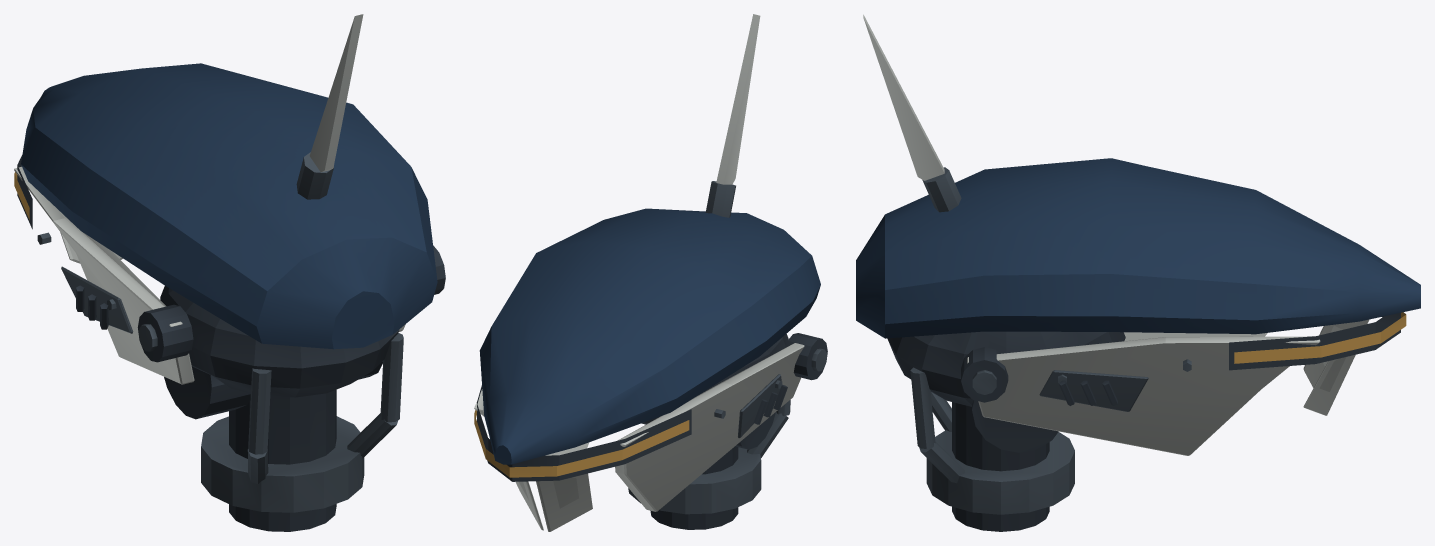
The model's file is head.glb.
3 renders of one model, left to right at view 1: azimuth 30°, elevation 25°; view 2: azimuth 150°, elevation 25°; view 3: azimuth 270°, elevation 25°, orthographic. The views are drawn at different scales.
Visible parts, largest first — view 1: Swept_wedge_crown, Head_avionics_core, Neck_collar, Neck_gimbal, L_Swept_white_cheek, Swept_blade_antenna, Neck_pitch_axle, L_Temple_pivot, L_Neck_cable_01, R_Neck_cable_01, L_Cheek_service_inset, Antenna_root (+2 smaller); view 2: Swept_wedge_crown, L_Swept_white_cheek, Neck_collar, Visor_recess_gasket, Single_amber_slit, Swept_blade_antenna, L_Pointed_face_chine, Neck_gimbal, L_Temple_pivot, L_Cheek_service_inset, Antenna_root, Neck_pitch_axle (+3 smaller); view 3: Swept_wedge_crown, R_Swept_white_cheek, Neck_collar, Head_avionics_core, Neck_gimbal, Visor_recess_gasket, Swept_blade_antenna, R_Cheek_service_inset, Single_amber_slit, Neck_pitch_axle, R_Temple_pivot, R_Pointed_face_chine (+5 smaller).
Part boxes in pixels (x1,y1,x2,y2): Swept_wedge_crown: (21, 63, 437, 349); Head_avionics_core: (160, 286, 399, 397); Neck_collar: (201, 416, 364, 512); Neck_gimbal: (229, 389, 336, 531); L_Swept_white_cheek: (14, 166, 194, 384); Swept_blade_antenna: (309, 14, 363, 172); Neck_pitch_axle: (164, 361, 382, 419); L_Temple_pivot: (137, 304, 193, 362); L_Neck_cable_01: (248, 368, 271, 454); R_Neck_cable_01: (380, 333, 403, 422); L_Cheek_service_inset: (61, 266, 133, 333); Antenna_root: (296, 152, 333, 199); Swept_wedge_crown: (479, 208, 820, 464); L_Swept_white_cheek: (615, 343, 804, 511); Neck_collar: (628, 447, 761, 514); Visor_recess_gasket: (477, 385, 691, 481); Single_amber_slit: (474, 410, 689, 477); Swept_blade_antenna: (716, 14, 760, 184); L_Pointed_face_chine: (536, 473, 592, 531); Neck_gimbal: (650, 446, 738, 529); L_Temple_pivot: (785, 333, 827, 380); L_Cheek_service_inset: (738, 374, 781, 438); Antenna_root: (705, 181, 735, 217); Neck_pitch_axle: (641, 412, 775, 449); Swept_wedge_crown: (856, 158, 1420, 338); R_Swept_white_cheek: (967, 336, 1320, 455); Neck_collar: (926, 430, 1074, 514); Head_avionics_core: (887, 331, 1125, 406); Neck_gimbal: (952, 402, 1049, 531); Visor_recess_gasket: (1229, 312, 1400, 370); Swept_blade_antenna: (863, 14, 944, 180); R_Cheek_service_inset: (1039, 370, 1148, 411); Single_amber_slit: (1234, 312, 1406, 363); Neck_pitch_axle: (972, 400, 1058, 452); R_Temple_pivot: (961, 347, 1008, 402); R_Pointed_face_chine: (1303, 355, 1355, 415).
Size of the model in its own units: 0.172 by 0.302 by 0.312.
